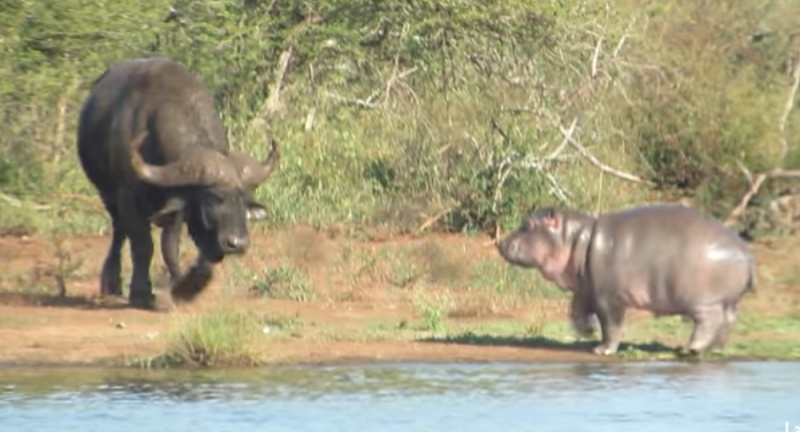hipopotamo: (495, 195, 755, 383)
